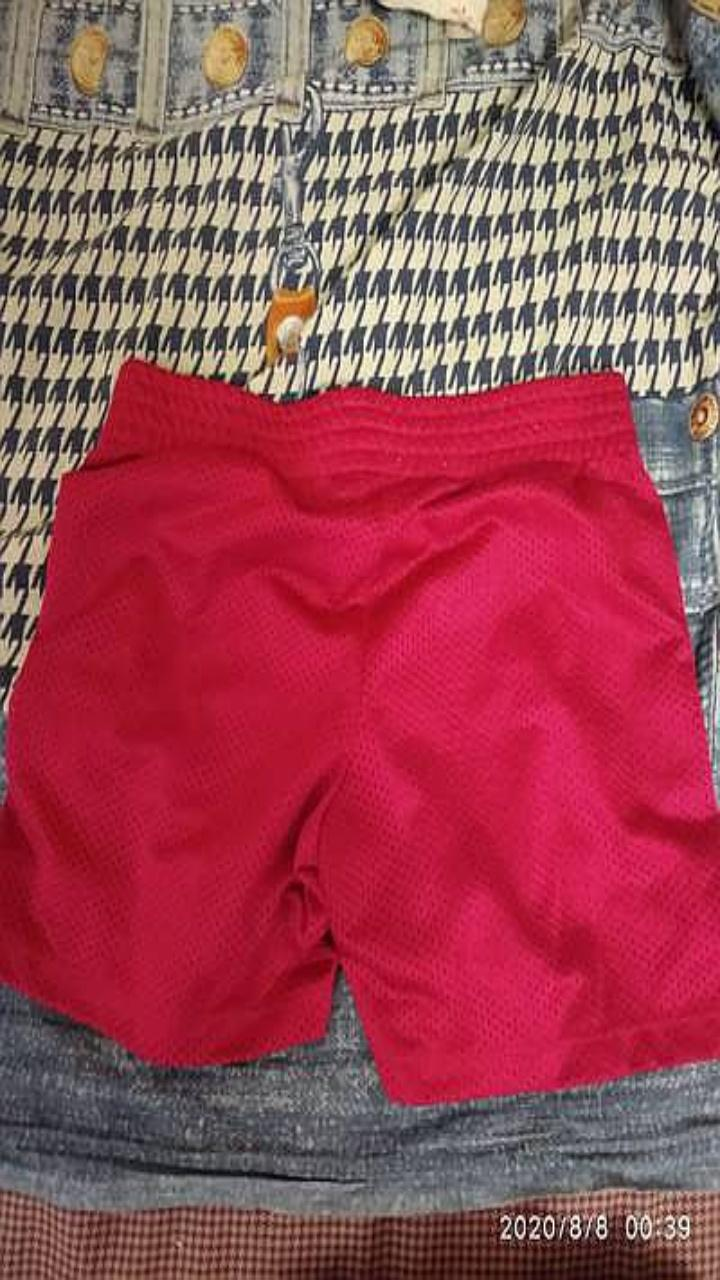Shorts: (0, 360, 719, 1102)
